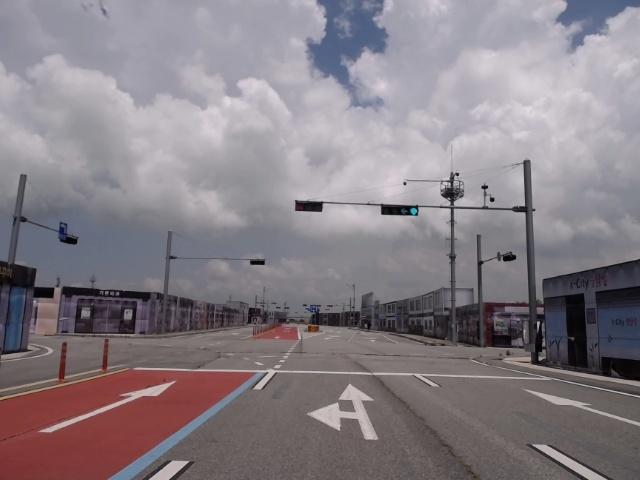all_green_4: (381, 205, 417, 215)
